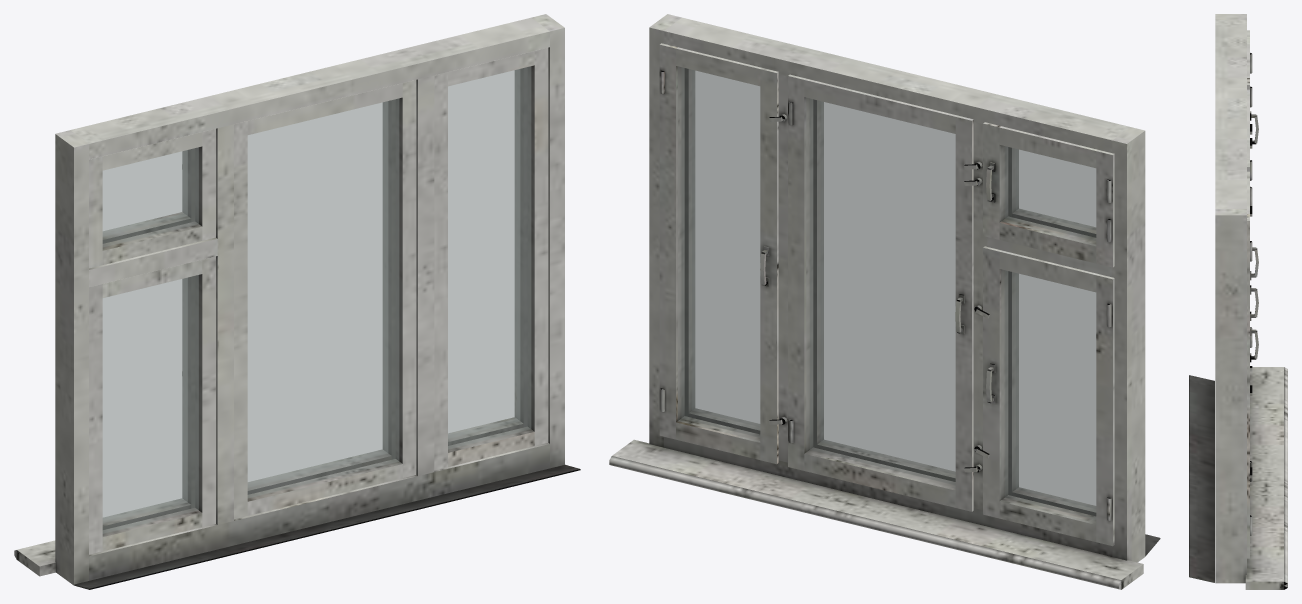
Rendered from win_3_fort_right_lod1_web.glb.
3 renders of one model, left to right at view 1: azimuth 30°, elevation 25°; view 2: azimuth 150°, elevation 25°; view 3: azimuth 270°, elevation 25°, orthographic. The views are drawn at different scales.
Visible parts, largest first — view 1: Win3FortRight_Body, Glass_Sash_C_out, Glass_Sash_C_in, Glass_Sash_L_out, Sash_C_Mesh, Glass_Sash_L_in, Glass_Sash_R_out, Sash_L_Mesh, Glass_Sash_R_in, Sash_R_Mesh, Fort_R_Mesh, Glass_Fort_R_out (+1 smaller); view 2: Win3FortRight_Body, Glass_Sash_C_in, Glass_Sash_C_out, Sash_C_Mesh, Glass_Sash_L_in, Sash_L_Mesh, Glass_Sash_L_out, Glass_Sash_R_in, Sash_R_Mesh, Glass_Sash_R_out, Fort_R_Mesh, Glass_Fort_R_in (+1 smaller); view 3: Win3FortRight_Body, Sash_L_Mesh, Sash_C_Mesh, Fort_R_Mesh, Sash_R_Mesh.
Part boxes in pixels (x1,y1,x2,y2): Win3FortRight_Body: (14, 14, 580, 589); Glass_Sash_C_out: (248, 98, 398, 497); Glass_Sash_C_in: (248, 101, 387, 486); Glass_Sash_L_out: (448, 66, 530, 449); Sash_C_Mesh: (234, 80, 416, 519); Glass_Sash_L_in: (448, 69, 519, 438); Glass_Sash_R_out: (103, 275, 198, 533); Sash_L_Mesh: (434, 47, 548, 470); Glass_Sash_R_in: (103, 278, 187, 522); Sash_R_Mesh: (89, 256, 215, 554); Fort_R_Mesh: (89, 128, 215, 268); Glass_Fort_R_out: (103, 147, 198, 247); Win3FortRight_Body: (609, 14, 1160, 589); Glass_Sash_C_in: (810, 99, 955, 484); Glass_Sash_C_out: (821, 101, 955, 474); Sash_C_Mesh: (788, 74, 973, 511); Glass_Sash_L_in: (681, 67, 759, 437); Sash_L_Mesh: (659, 43, 778, 464); Glass_Sash_L_out: (692, 70, 759, 426); Glass_Sash_R_in: (1005, 270, 1095, 519); Sash_R_Mesh: (983, 246, 1114, 546); Glass_Sash_R_out: (1016, 273, 1095, 508); Fort_R_Mesh: (983, 122, 1114, 267); Glass_Fort_R_in: (1005, 146, 1095, 240); Win3FortRight_Body: (1189, 14, 1287, 589); Sash_L_Mesh: (1247, 171, 1258, 558); Sash_C_Mesh: (1247, 89, 1258, 481); Fort_R_Mesh: (1247, 30, 1258, 144); Sash_R_Mesh: (1250, 160, 1258, 347).
Bounding box in the file's own units: 1.92 × 1.54 × 0.3742.
Materials: 2 (1 with a texture image).
